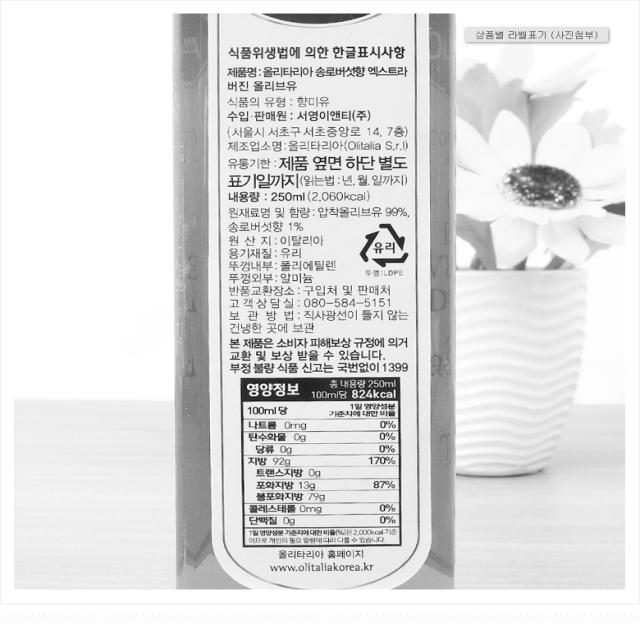Nutrition Label: (230, 370, 410, 556)
